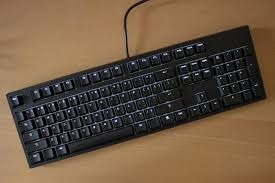keyboard: (3, 13, 272, 179)
